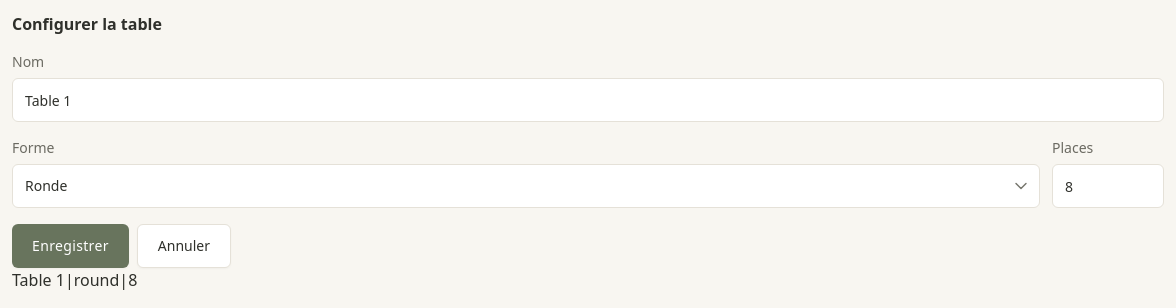
it: TableConfigSheet › edits name, shape and capacity on submit
Replace the text in the field labelled "Nom" with "Table VIP". click: (588, 100)
box: [12, 78, 1164, 122]
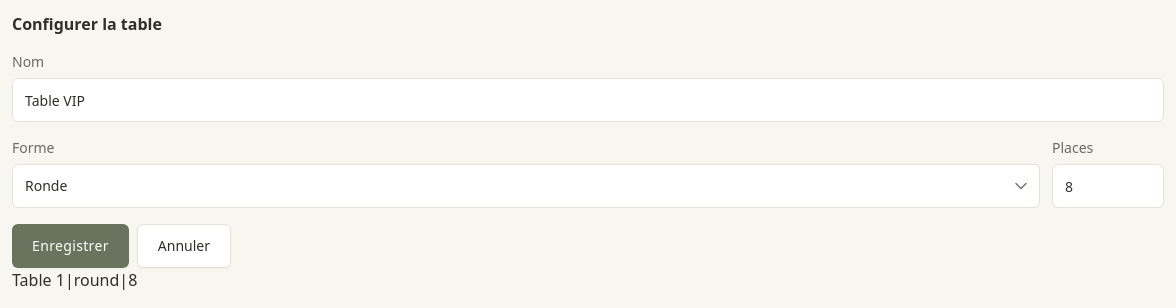
Select "Rectangulaire" in the dropdown labelled "Forme". click: (526, 186)
box: [12, 164, 1040, 208]
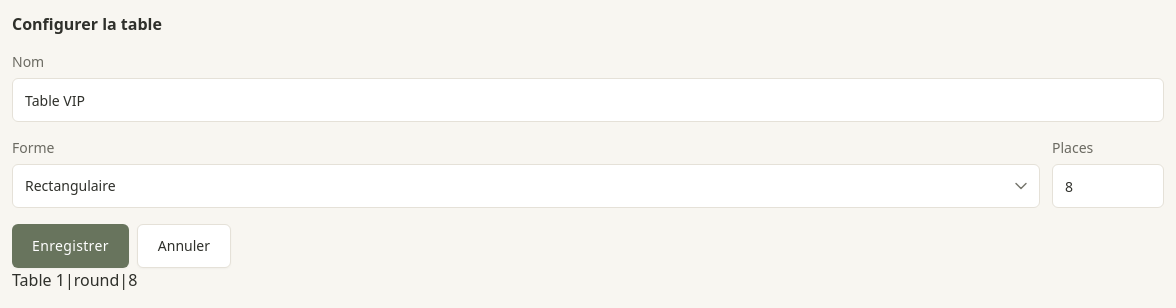
Replace the text in the number field labelled "Places" with "10". click: (1108, 186)
box: [1052, 164, 1164, 208]
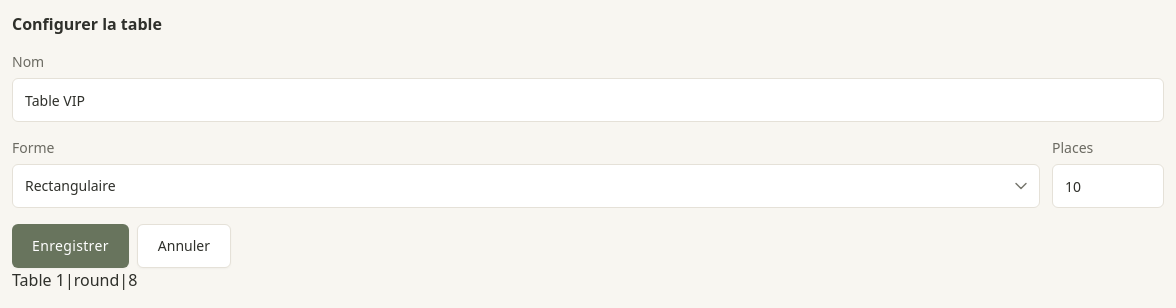
Submit the form
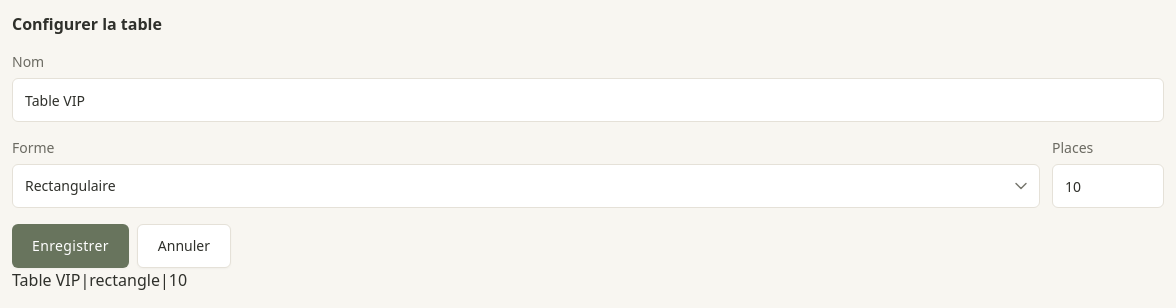
expect the list with test id "probe" reads "Table VIP|rectangle|10": met, box [12, 269, 80, 291]
